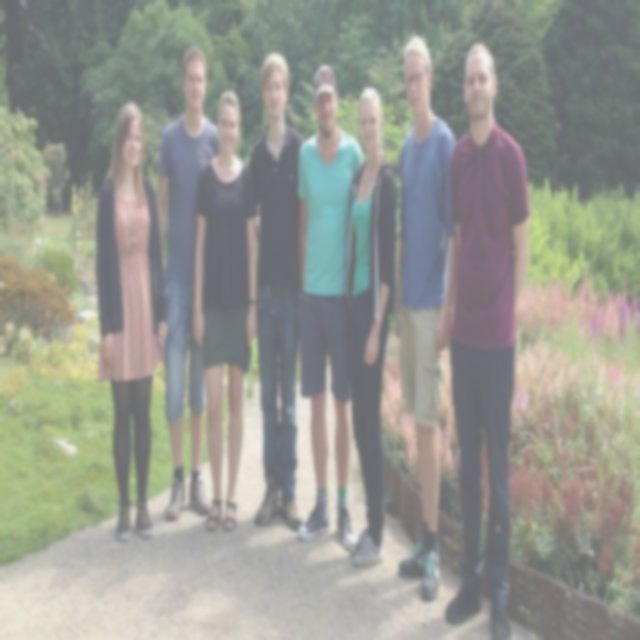pessoa: (439, 36, 534, 638), (393, 31, 462, 609), (189, 81, 262, 538), (94, 100, 168, 544), (298, 62, 364, 554), (154, 44, 221, 521), (244, 50, 306, 532), (343, 83, 399, 568)
